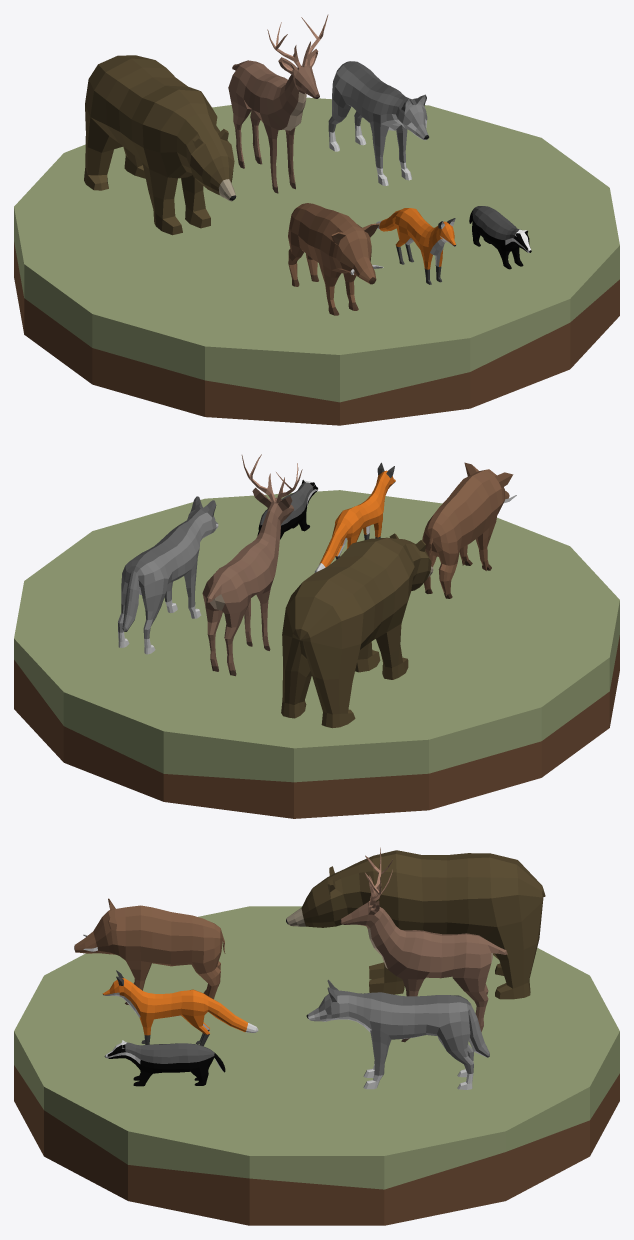
File: forest_animals.fbx
3 renders of one model, top to bottom at view 1: azimuth 30°, elevation 25°; view 2: azimuth 150°, elevation 25°; view 3: azimuth 270°, elevation 25°, orthographic.
Parts seen in each view (by area): view 1: ground, bear, deer, Boar, wolf, Fox, badger; view 2: ground, bear, deer, wolf, Boar, Fox, badger; view 3: ground, bear, wolf, deer, Boar, Fox, badger.
Boxes of the visible parts, left/top/right/bottom form: ground: left=14, top=97, right=619, bottom=425; bear: left=84, top=55, right=236, bottom=235; deer: left=228, top=14, right=328, bottom=193; Boar: left=288, top=203, right=383, bottom=315; wolf: left=328, top=61, right=429, bottom=185; Fox: left=376, top=208, right=455, bottom=284; badger: left=469, top=206, right=531, bottom=269; ground: left=14, top=490, right=619, bottom=818; bear: left=281, top=533, right=433, bottom=728; deer: left=202, top=454, right=302, bottom=676; wolf: left=118, top=496, right=218, bottom=654; Boar: left=422, top=462, right=516, bottom=598; Fox: left=314, top=462, right=395, bottom=572; badger: left=257, top=479, right=318, bottom=539; ground: left=14, top=906, right=619, bottom=1225; bear: left=286, top=850, right=545, bottom=999; wolf: left=306, top=979, right=489, bottom=1089; deer: left=340, top=847, right=507, bottom=1042; Boar: left=74, top=898, right=225, bottom=1004; Fox: left=102, top=970, right=258, bottom=1046; badger: left=104, top=1040, right=225, bottom=1086.
Bounding box in the file's own units: 454 × 208 × 466.
